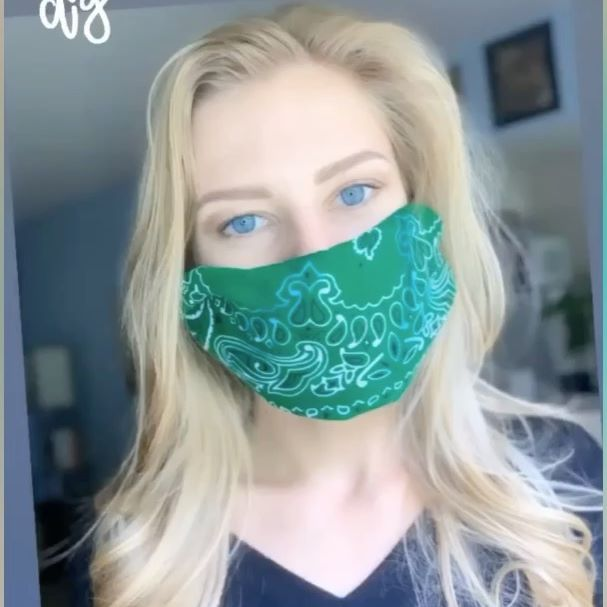homemade: (172, 204, 458, 425)
